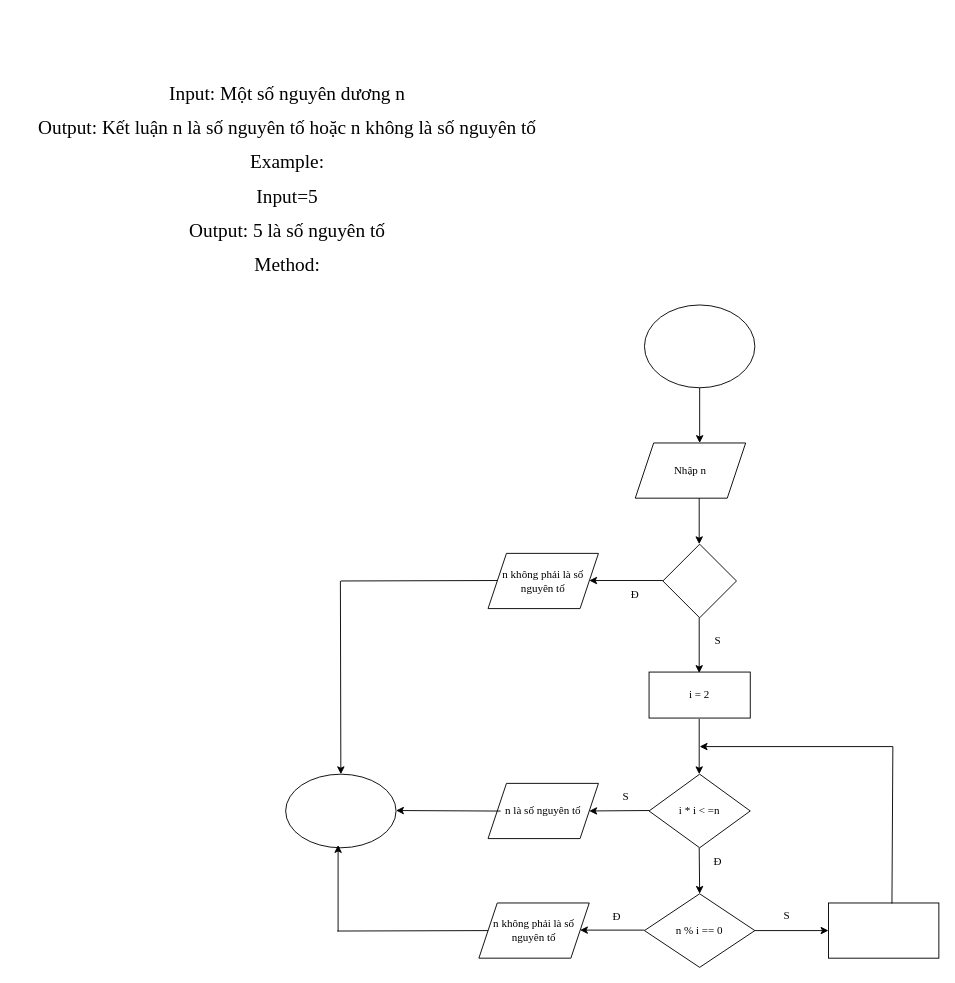
This 955x983 diagram has some shape labels left out. Each missing label, with the box of its shape:
Begin: (644, 304, 755, 388)
End: (285, 773, 396, 848)
i = i + 1: (828, 902, 939, 958)
n < 2: (662, 543, 736, 618)
